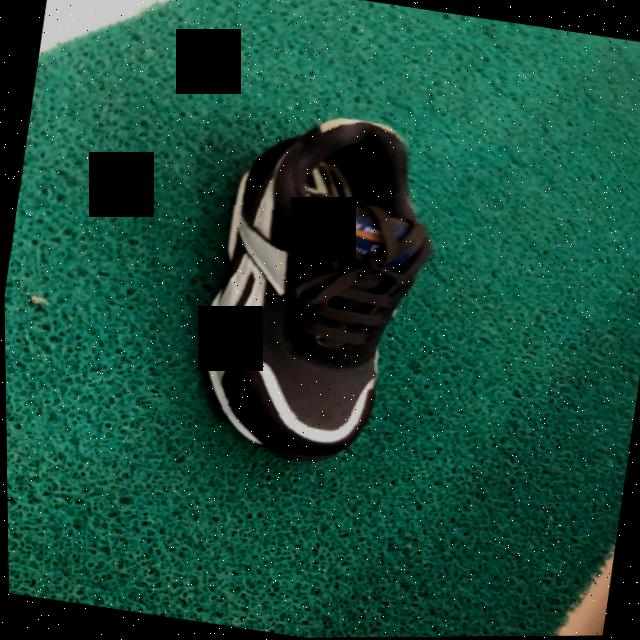shoe: (203, 121, 432, 467)
